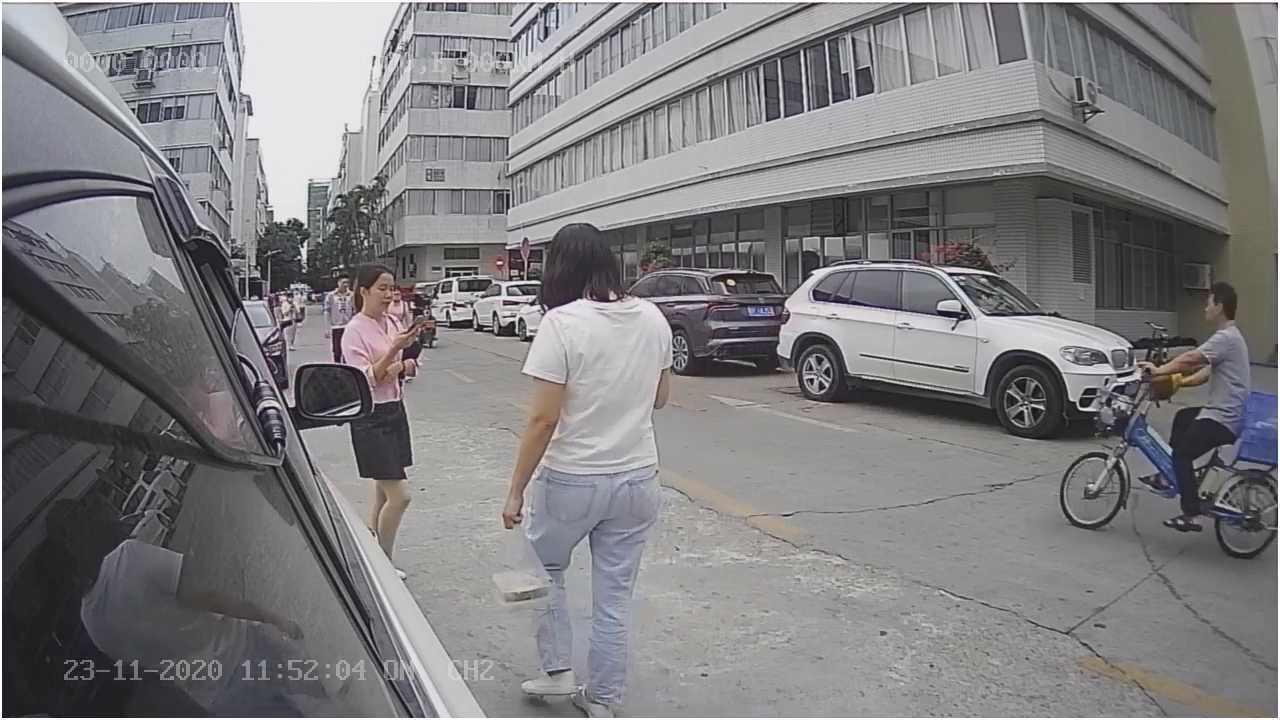person: (500, 218, 675, 714), (1138, 270, 1258, 388), (334, 266, 426, 362)
